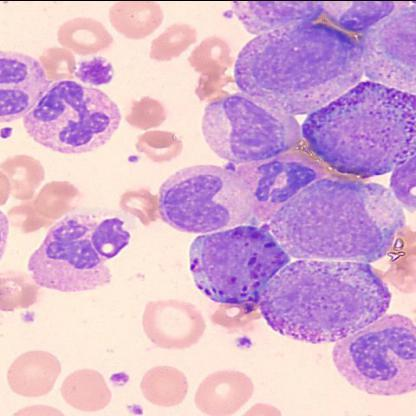Promyelocyte: (230, 22, 366, 115), (260, 258, 388, 342)
